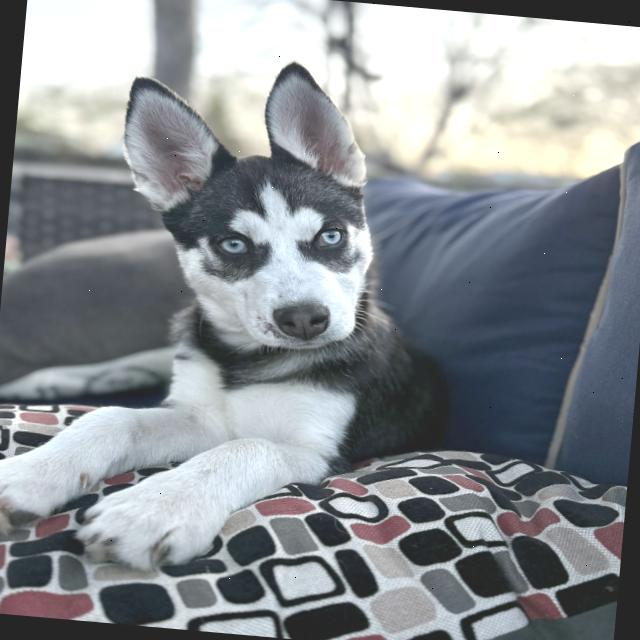siberian_husky_dog: (66, 33, 429, 374)
